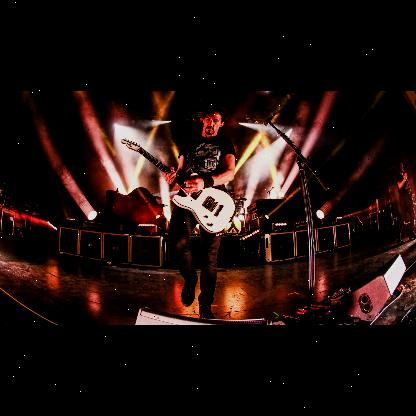guitar: (120, 138, 235, 234)
